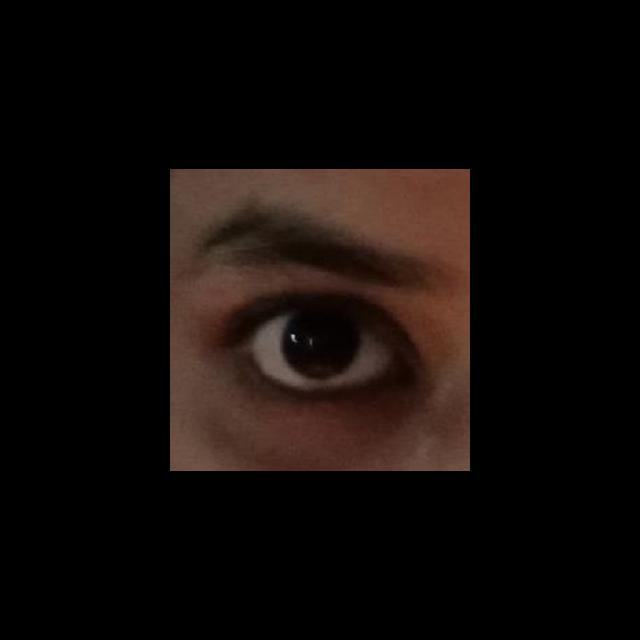eye: (253, 308, 397, 391)
iris: (282, 312, 363, 379)
